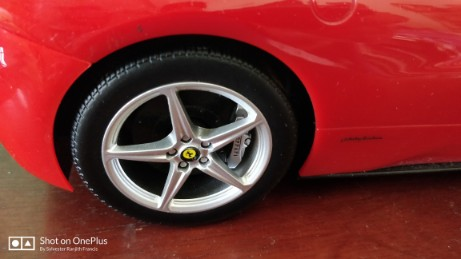aligned_wheel: (68, 49, 300, 233)
